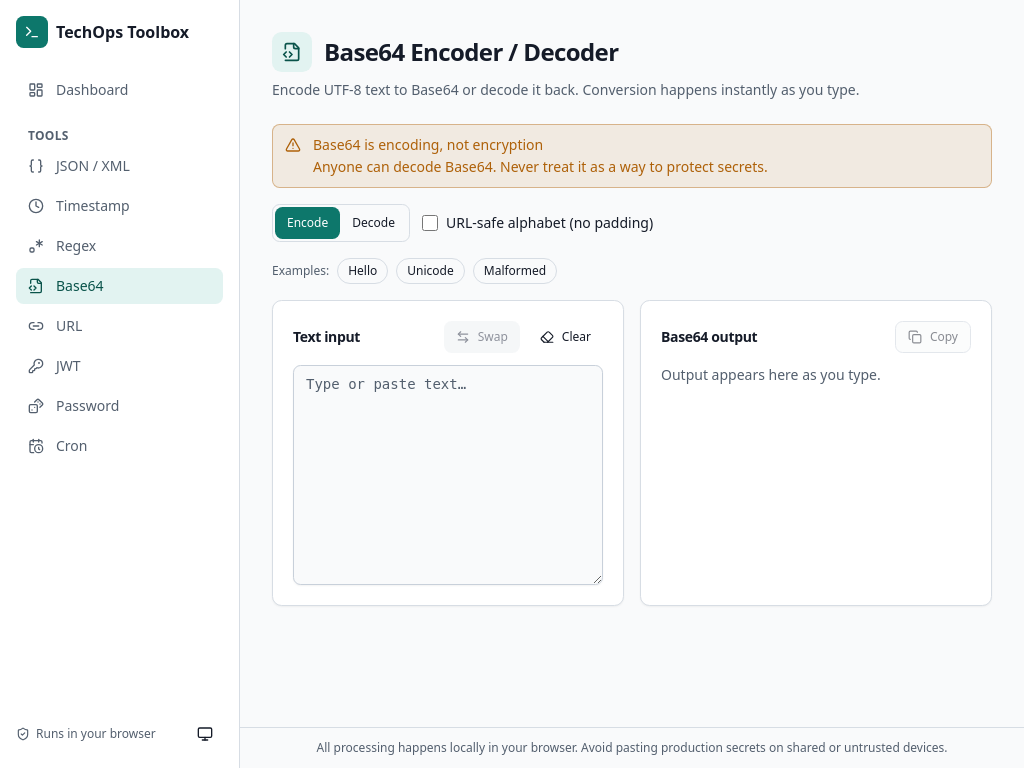
Test: Base64 page › encodes as you type, then swaps direction
In the text box named "Input": (448, 475) [293,365,603,585], type "Hello"
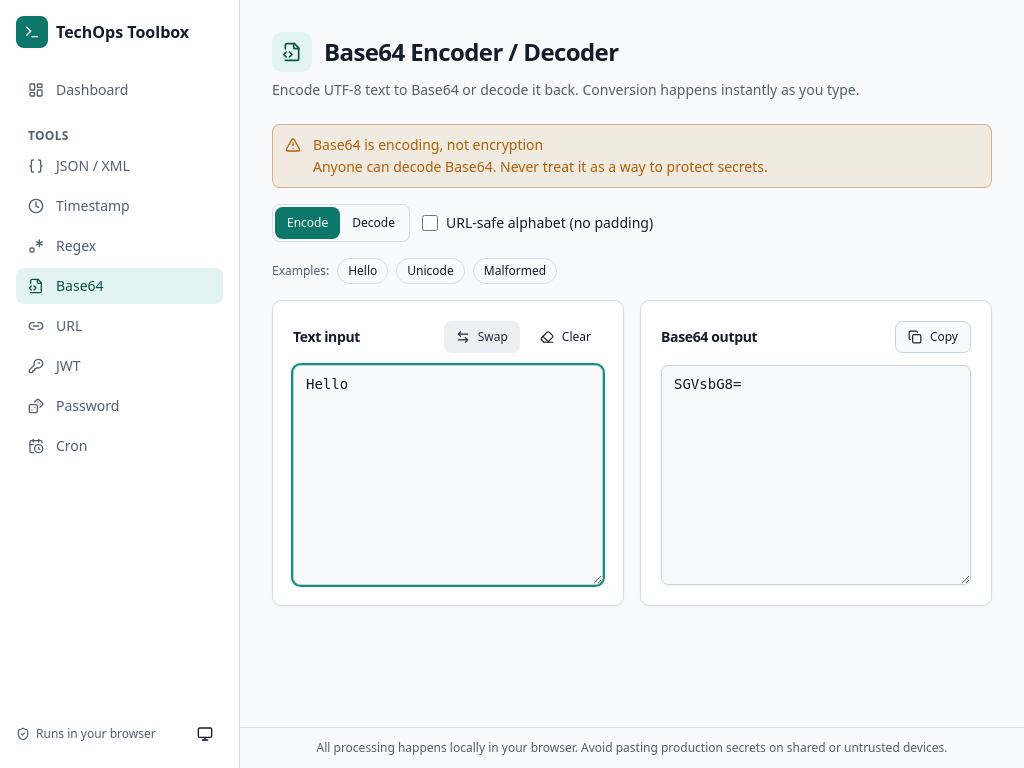
Expected: the text "Base64 is encoding, not encryption" is shown, [313,135,543,154]
Now the text box named "Output" holds "SGVsbG8=", box [661,365,971,585]
Click the button "Swap": (482, 337) [444,321,520,353]
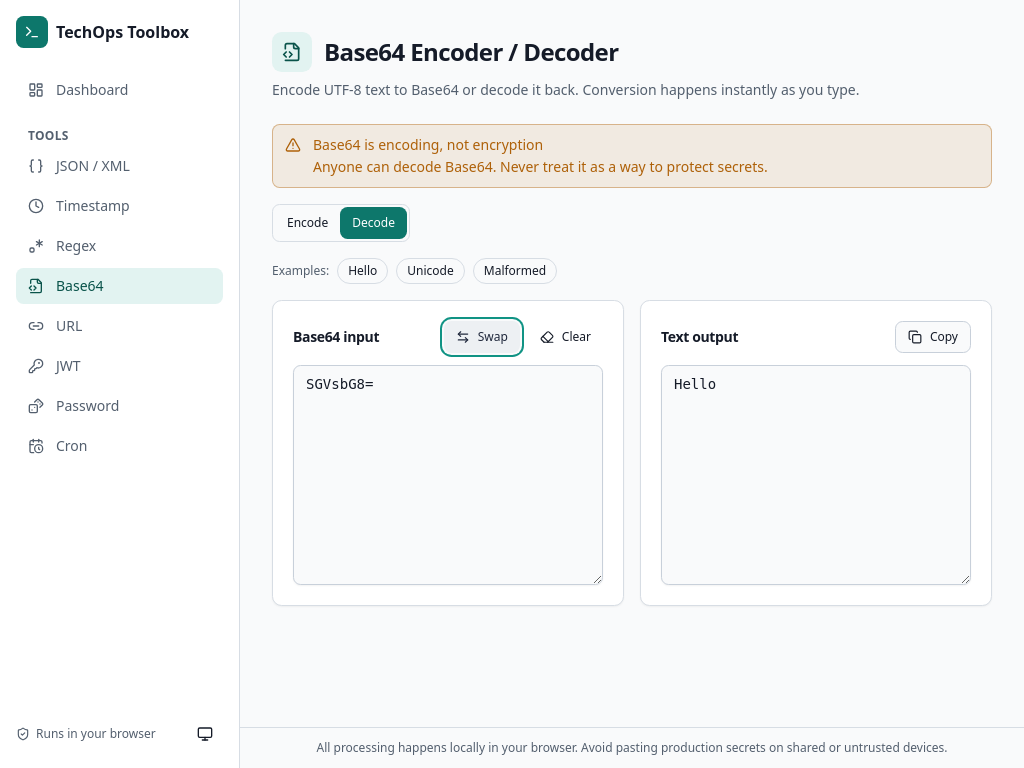
Now the text box named "Input" holds "SGVsbG8=", box [293,365,603,585]
Now the text box named "Output" holds "Hello", box [661,365,971,585]
